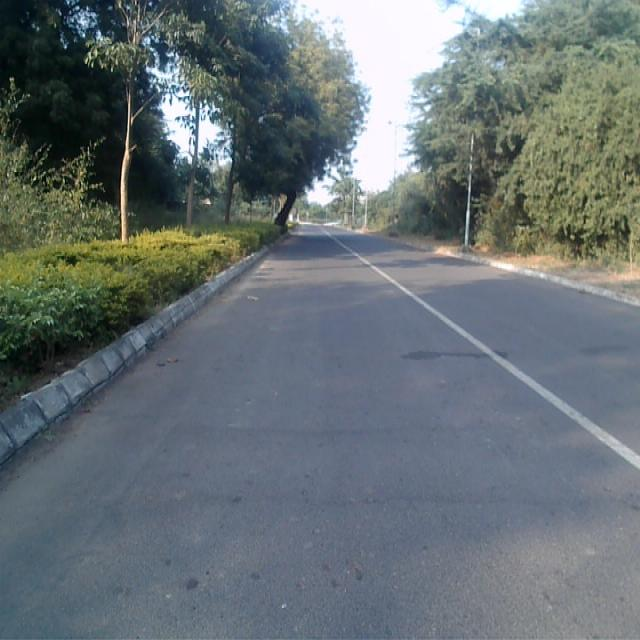lane: (0, 231, 640, 640)
